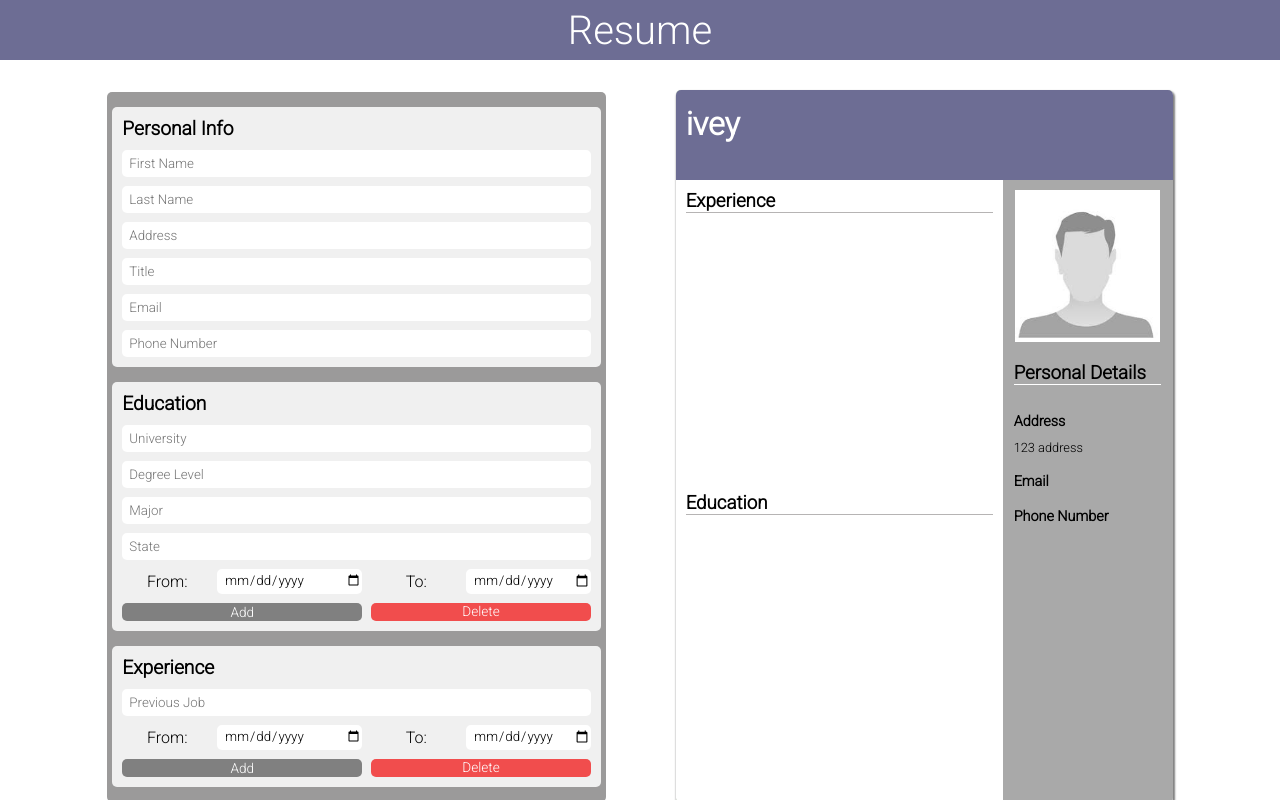
Test case: Personal info section is taking input and rendering via state read › email input entry typed into and rendered onto resume container
The image size is (1280, 800).
Type "email@gmail.com" into the field with placeholder "Email". click: coordinates (356, 307)
box: top-left (122, 294), bottom-right (591, 320)
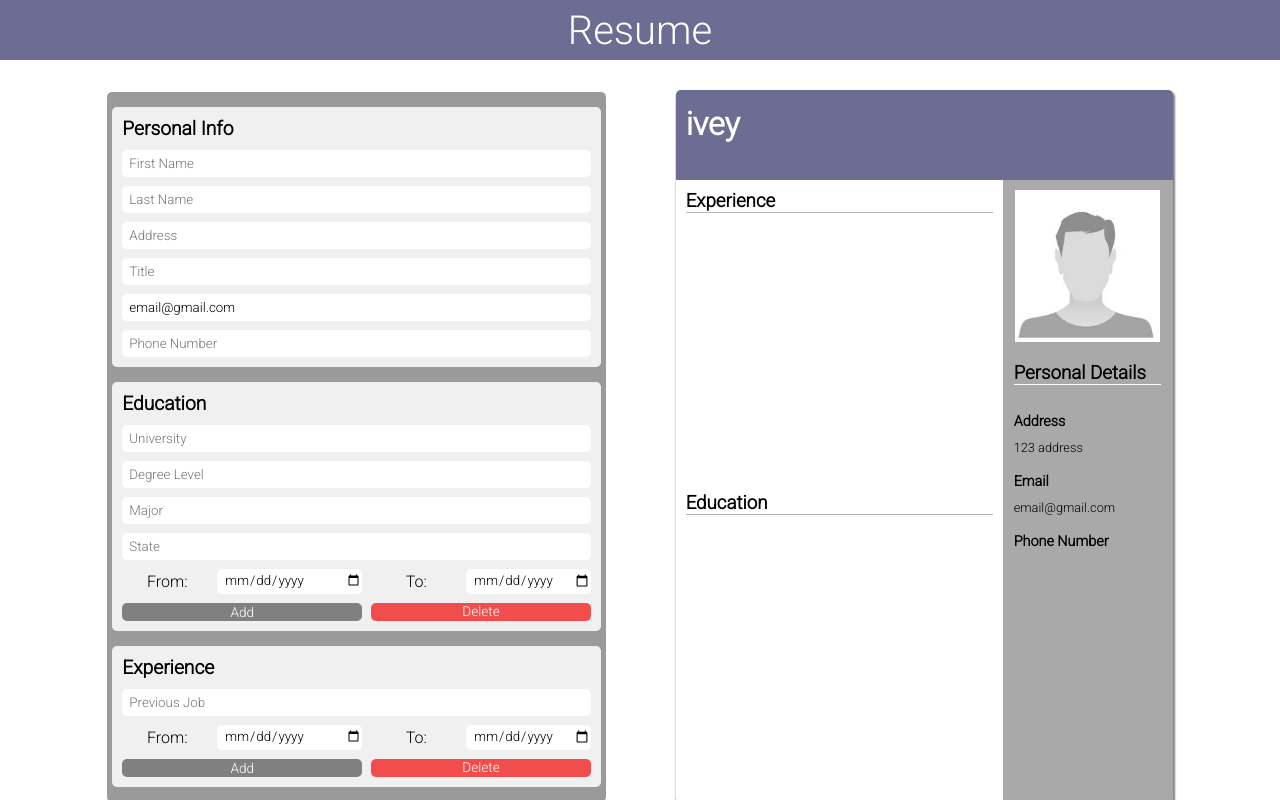
Now the text "email@gmail.com" is shown, box top-left (1014, 500), bottom-right (1115, 515)
